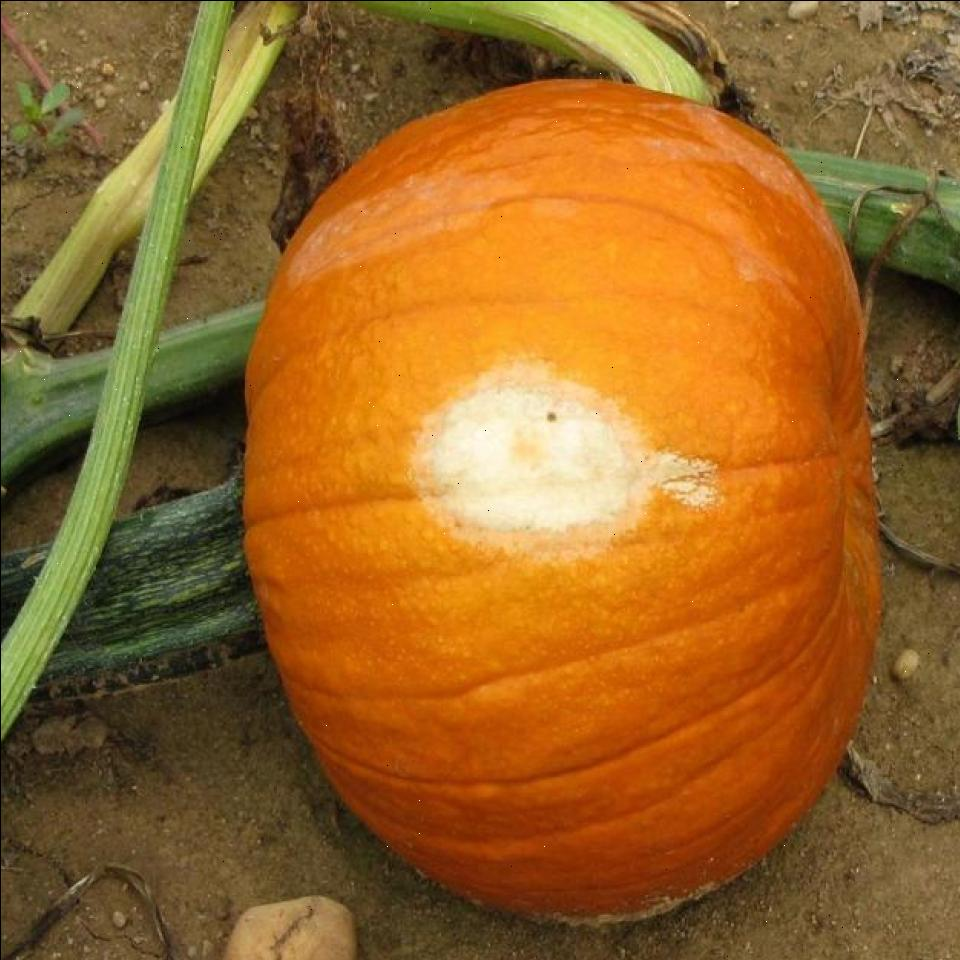Sunscald: (362, 353, 733, 550)
